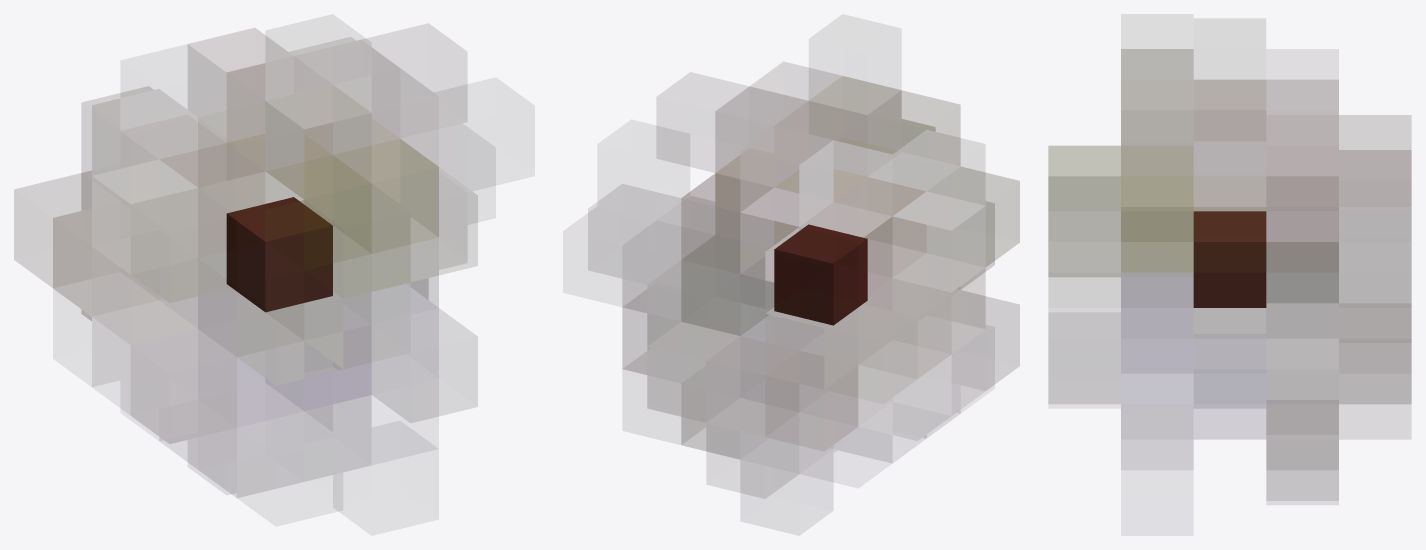
The model's file is iter_5.obj.
The picture shows the model from 3 angles, left to right: view 1: azimuth 30°, elevation 25°; view 2: azimuth 150°, elevation 25°; view 3: azimuth 270°, elevation 25°; orthographic projection. The views are drawn at different scales.
Parts seen in each view (by area): view 1: iter_5; view 2: iter_5; view 3: iter_5.
Part boxes in pixels (box(x1,y1,x2,y2)): iter_5: box(14, 28, 495, 510); iter_5: box(588, 62, 1019, 498); iter_5: box(1048, 49, 1411, 500).
Size of the model in its own units: 0.6 by 0.7 by 0.5.
